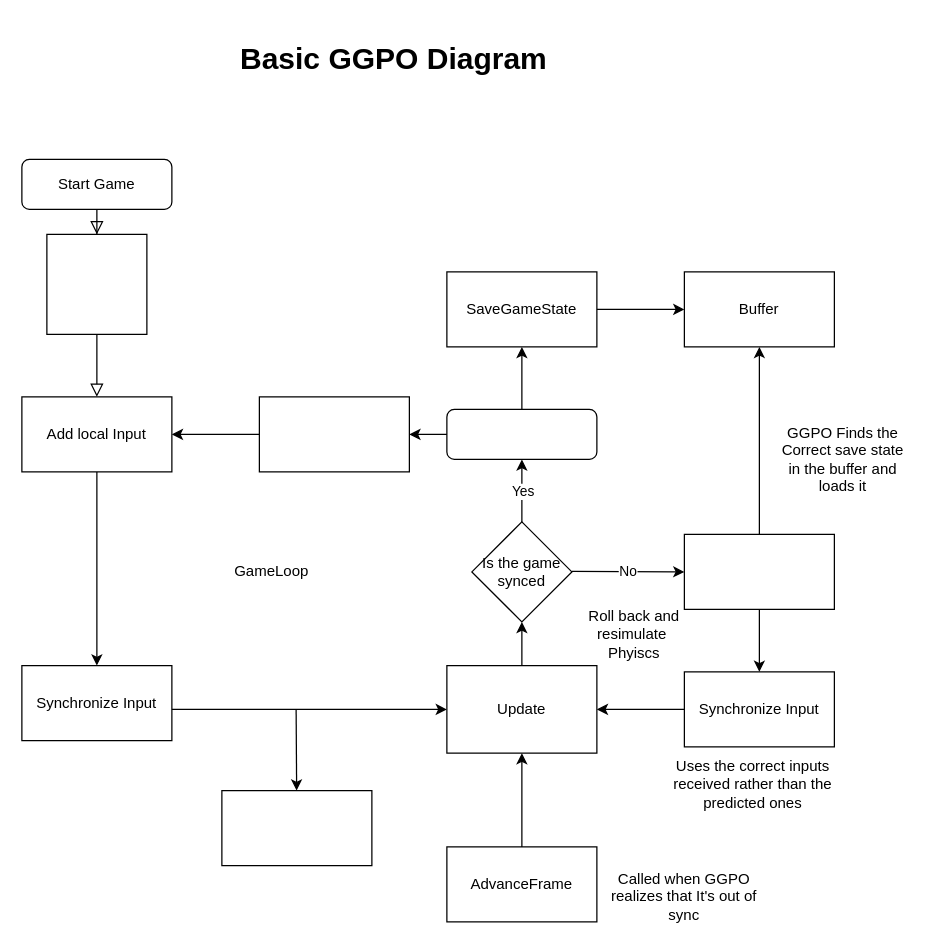
The diagram is 928 pixels wide and 945 high, and some of its shapes have lost their labels. The box of each missing label's shape, as (x1, y1, x2, y2) in pixels:
Advance Frame: (446, 408, 597, 459)
Exit Game: (221, 789, 372, 866)
LoadGameState: (683, 533, 834, 609)
Render Graphics: (258, 396, 409, 472)
Set FrameDelay Add Players Start Session: (46, 233, 147, 334)
